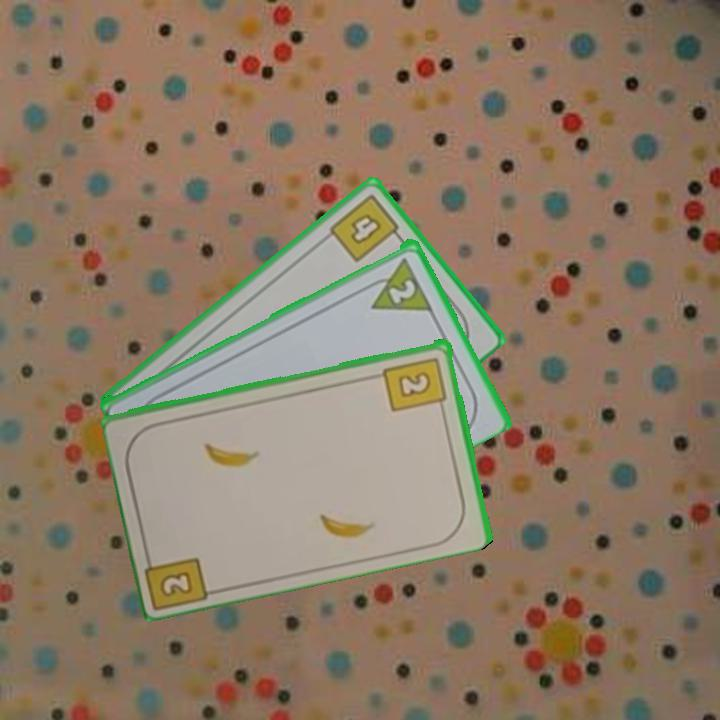2b: (141, 546, 213, 610), (380, 353, 450, 415)
2p: (385, 275, 419, 306)
4b: (325, 190, 407, 265)
